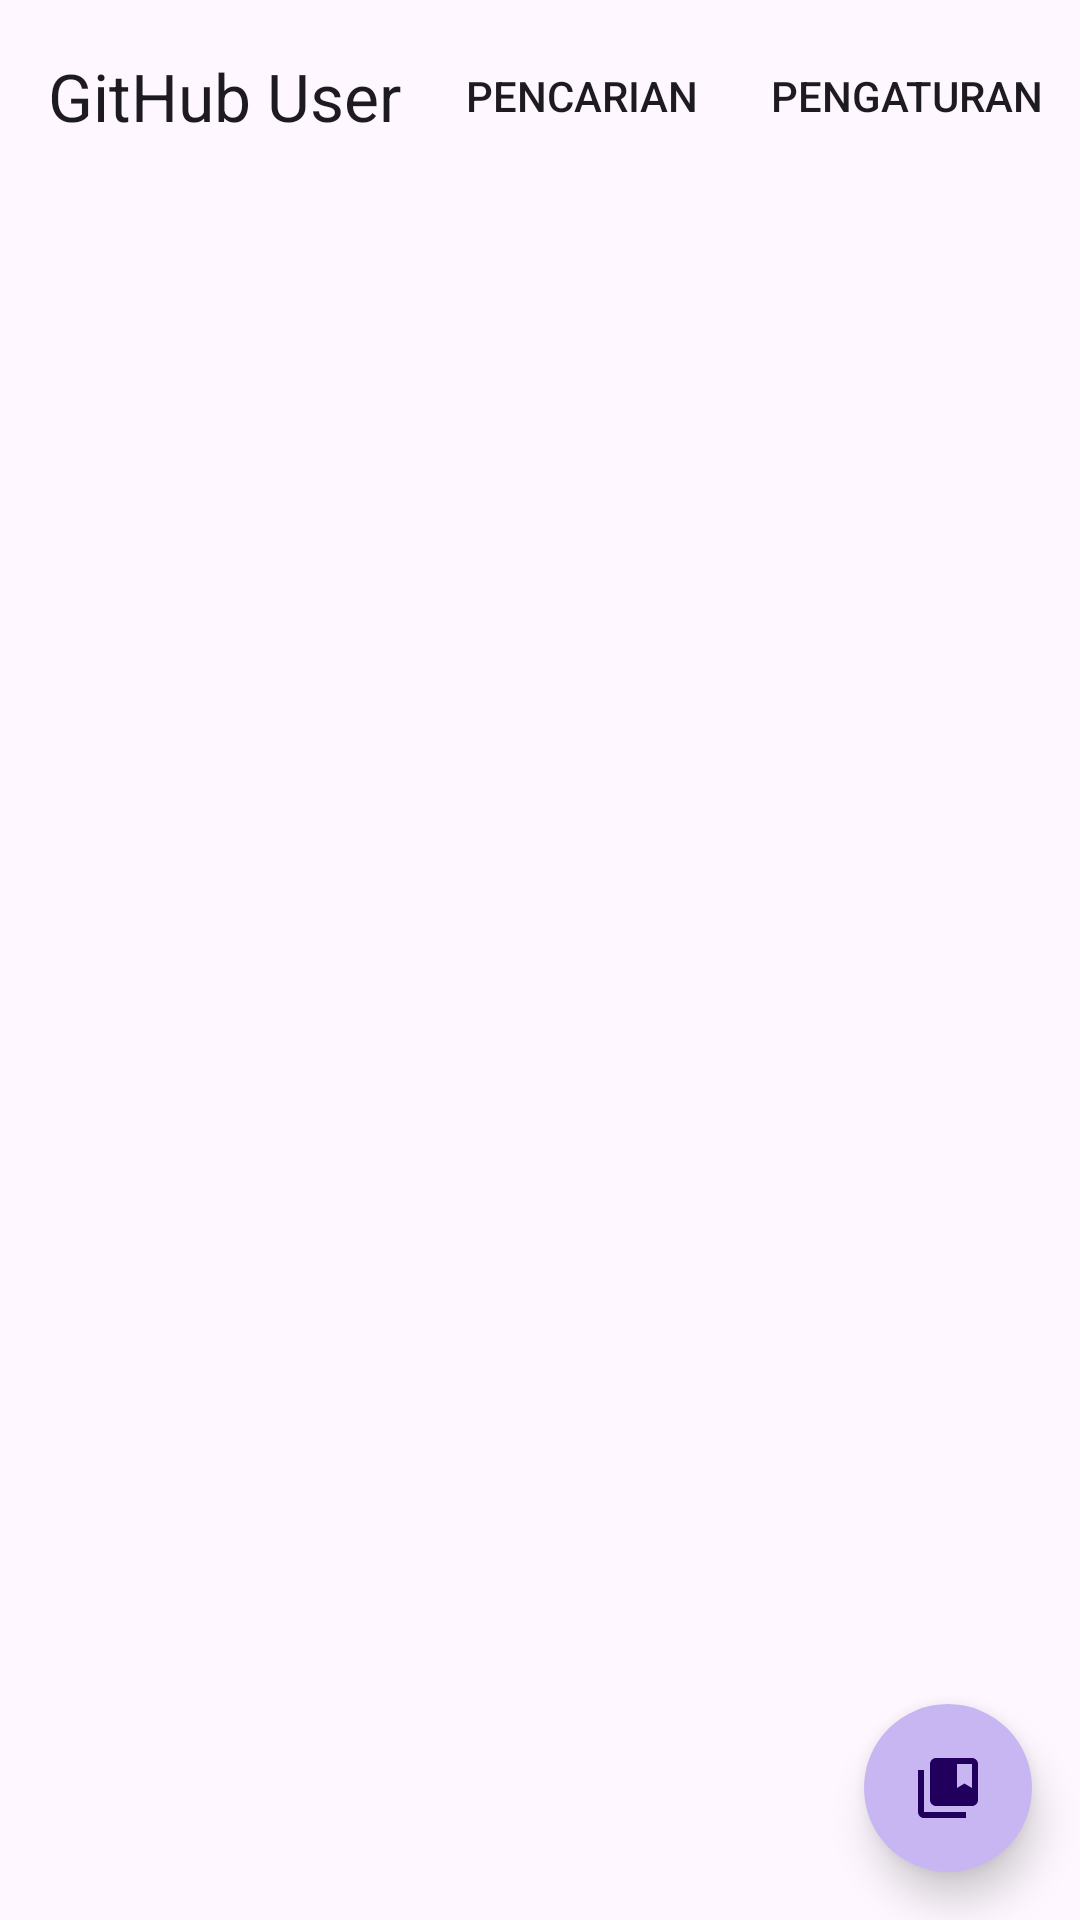

Where icons sit on this 1080*1920 app screen, as (x1, y1, x2, y2):
Favorite User: (864, 1704, 1032, 1872)
